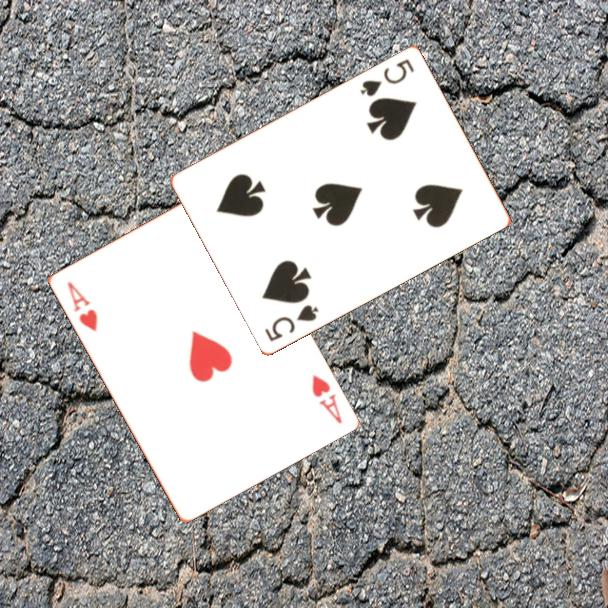h01: (308, 370, 345, 427), (63, 278, 100, 334)
s05: (357, 55, 417, 99), (261, 301, 322, 344)
